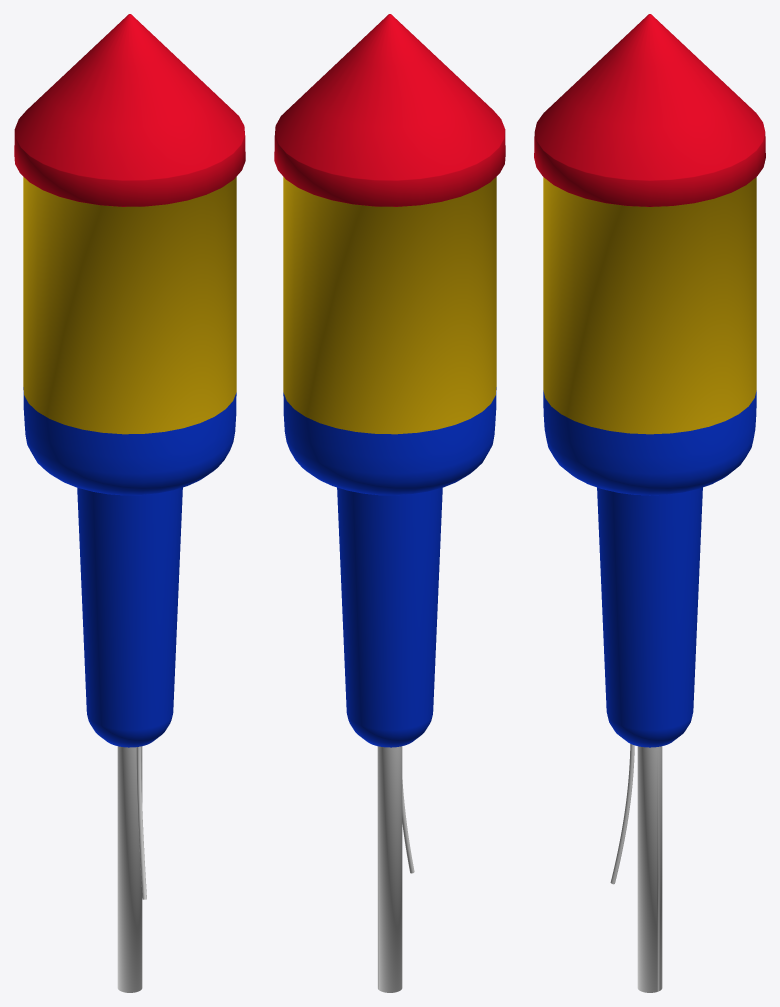
3 views of the same model, side by side, from view 1: azimuth 30°, elevation 25°; view 2: azimuth 150°, elevation 25°; view 3: azimuth 270°, elevation 25° (orthographic).
Parts seen in each view (by area): view 1: Roket1; view 2: Roket1; view 3: Roket1.
Part boxes in pixels (<box>): Roket1: <box>14,14,245,992</box>; Roket1: <box>274,14,505,992</box>; Roket1: <box>534,14,765,992</box>.
Bounding box in the file's own units: 204 × 943 × 204.
